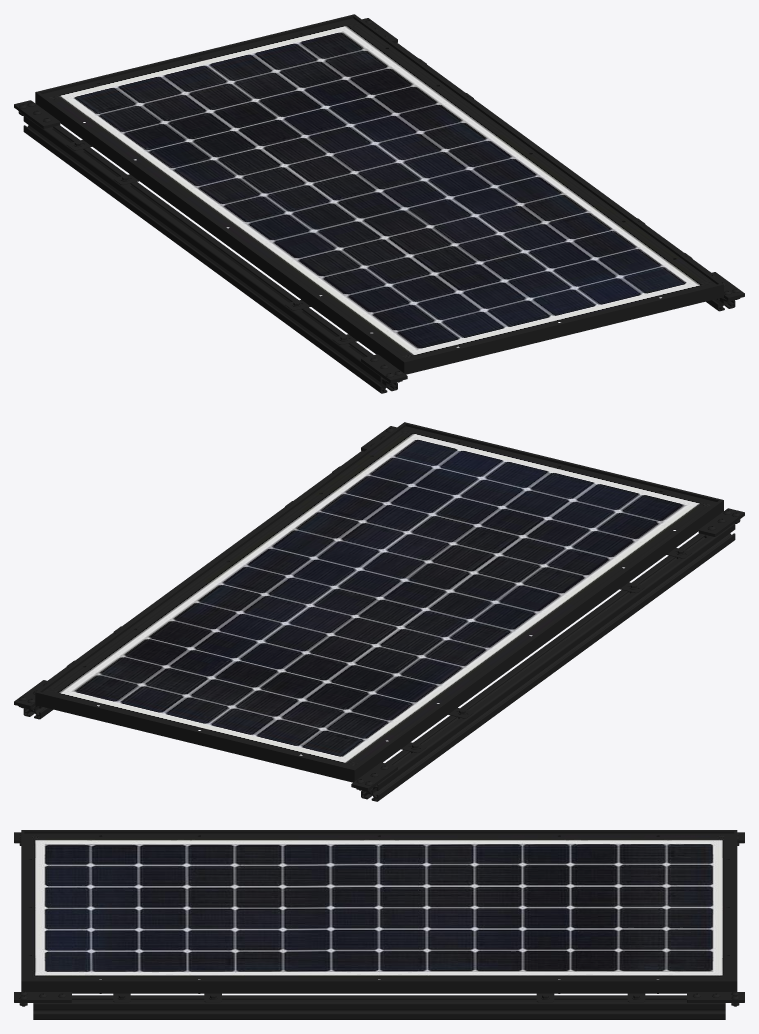
File: 200W_newpowa_sp.glb
3 renders of one model, top to bottom at view 1: azimuth 30°, elevation 25°; view 2: azimuth 150°, elevation 25°; view 3: azimuth 270°, elevation 25°, orthographic. The views are drawn at different scales.
Parts seen in each view (by area): view 1: new_solar200; view 2: new_solar200; view 3: new_solar200.
Part boxes in pixels (x1,y1,x2,y2): new_solar200: [14, 14, 744, 393]; new_solar200: [14, 422, 744, 801]; new_solar200: [14, 830, 744, 1019].
Bounding box in the file's own units: 0.7831 × 0.0673 × 1.44.
1 material, 1 textured.
